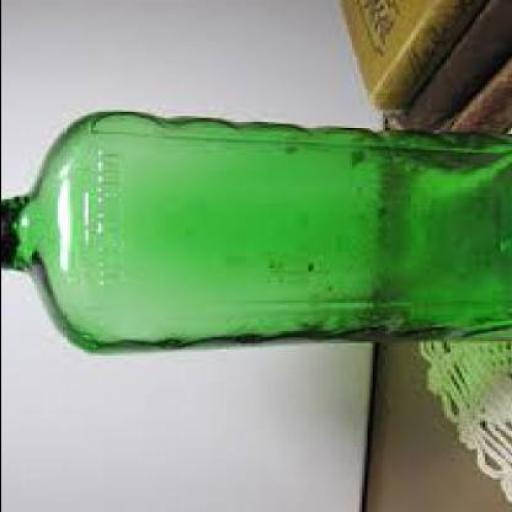glass: (1, 112, 510, 357)
